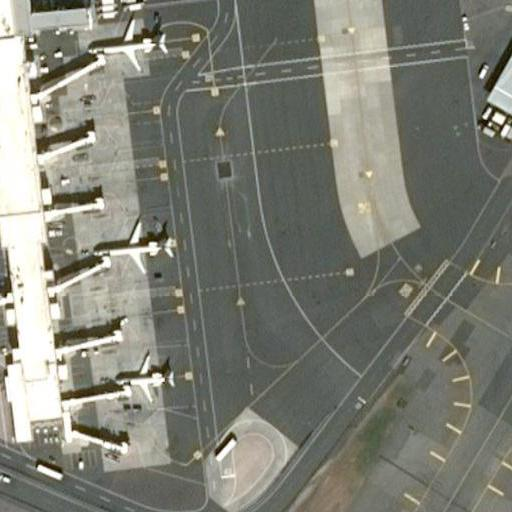Aircraft: (92, 4, 175, 77), (95, 213, 177, 276), (116, 342, 182, 405), (507, 269, 512, 342)
